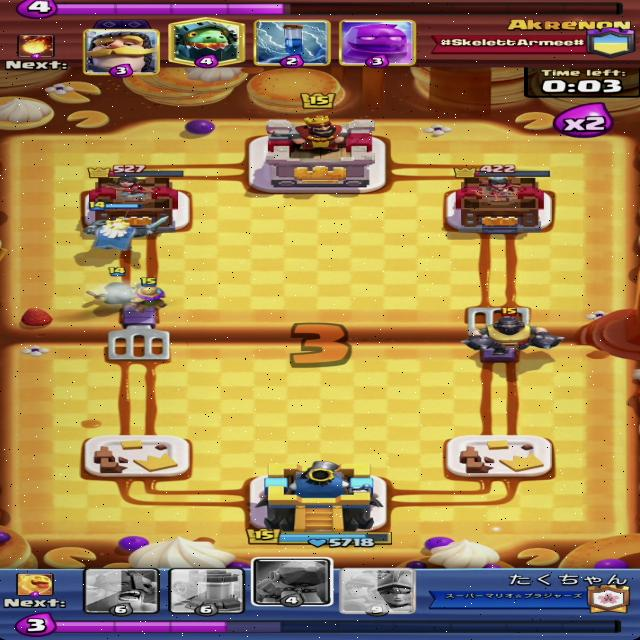Enemy-MegaKnight: (461, 306, 564, 357)
Player-Bandit: (84, 266, 142, 306)
Player-Musketeer: (128, 277, 171, 313)
Player-RoyalGhost: (82, 201, 169, 252)
